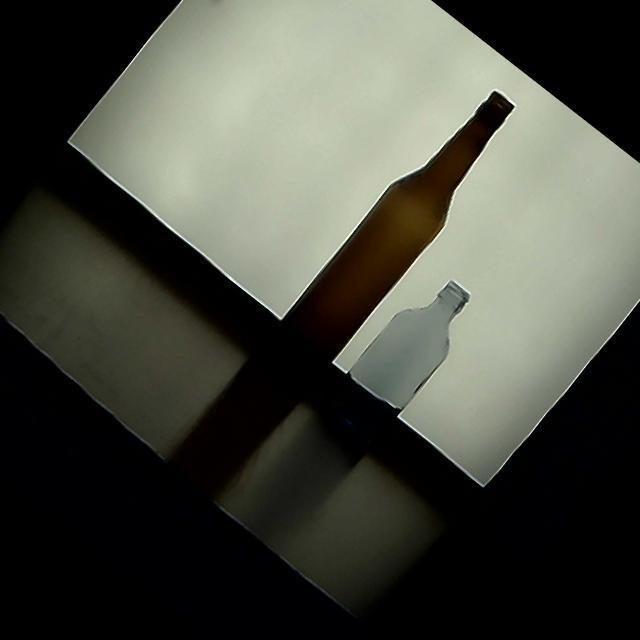Glass: (236, 90, 515, 418), (326, 278, 472, 464)
